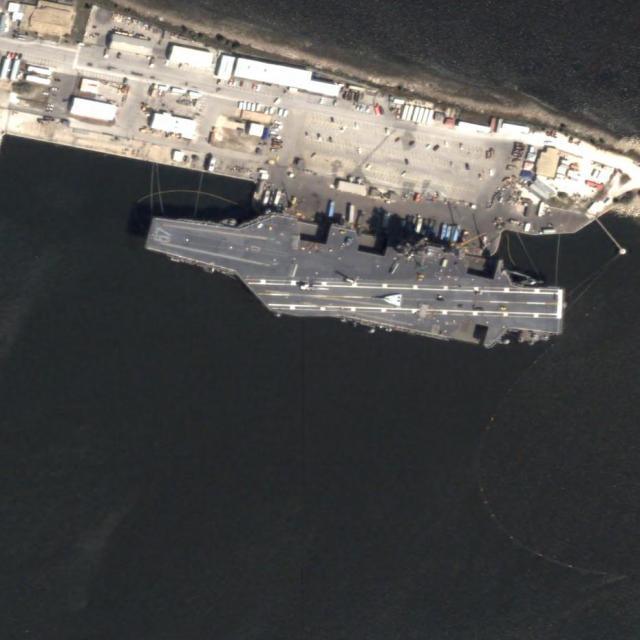Aircraft Carrier: (137, 189, 573, 371)
